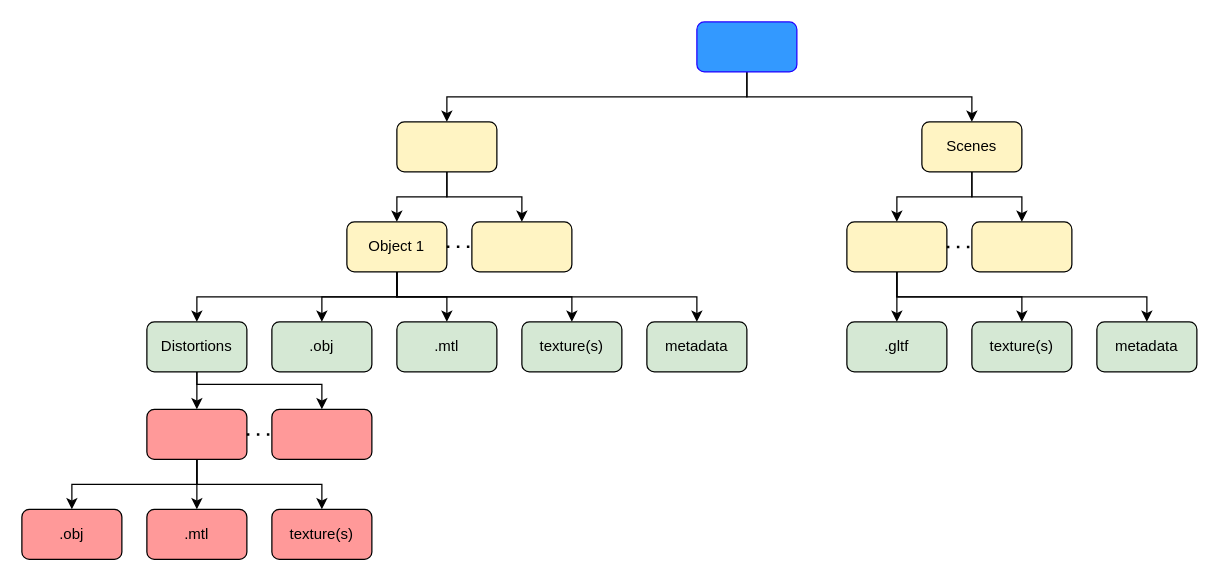
The diagram is 1219 pixels wide and 581 high, and some of its shapes have lost their labels. The shapes that lost their labels are listed below. From the top down, each one's centre as x and y in pixels, then its label:
(x=746, y=46): Dataset Root
(x=446, y=146): Objects
(x=521, y=246): Object N
(x=896, y=246): Scene 1
(x=1021, y=246): Scene M
(x=196, y=433): Distortion 1
(x=321, y=433): Distortion K
